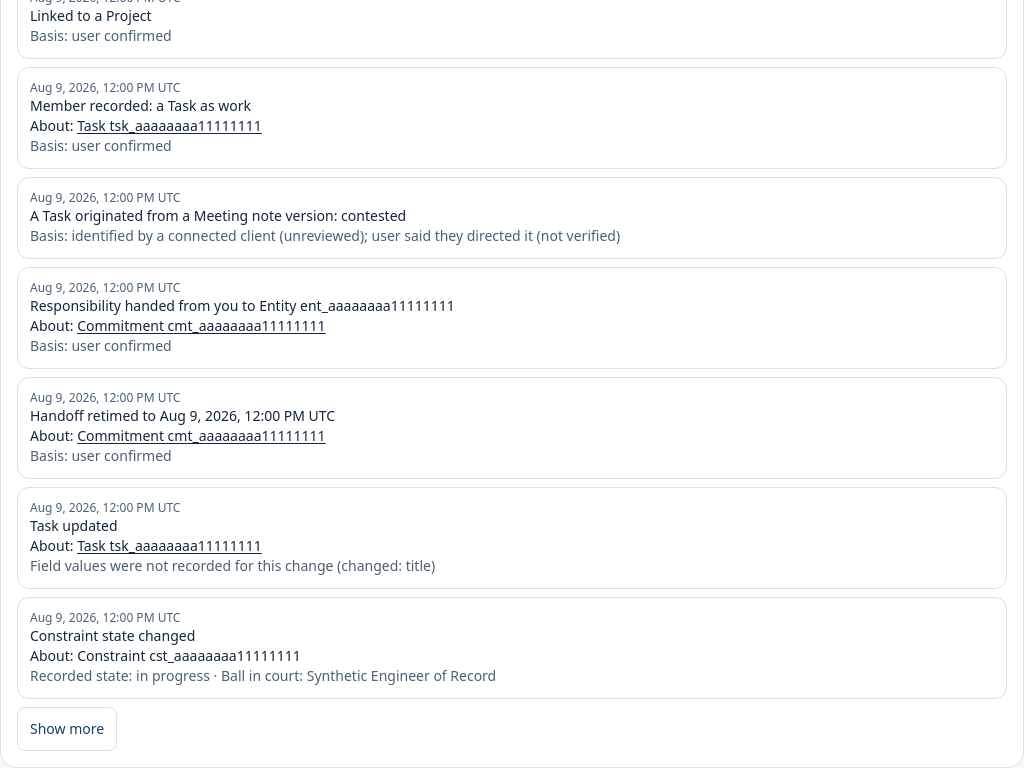
Scenario: IssueTimeline › requests the next timeline page with the cursor only
(page scrolled)
Step 1. Click the button "Show more" → point(67, 729), box x1=17 y1=707 x2=117 y2=751
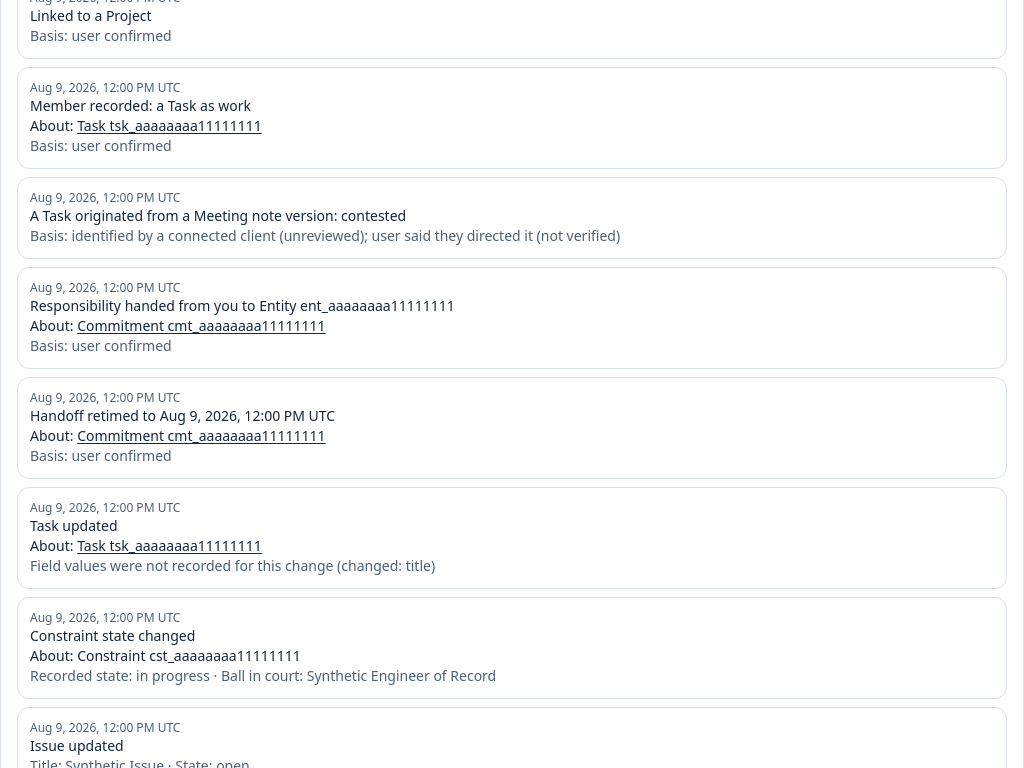
Expected: the text "Issue updated" is shown, x1=30 y1=736 x2=124 y2=755
Expected: the button "Show more" is gone
